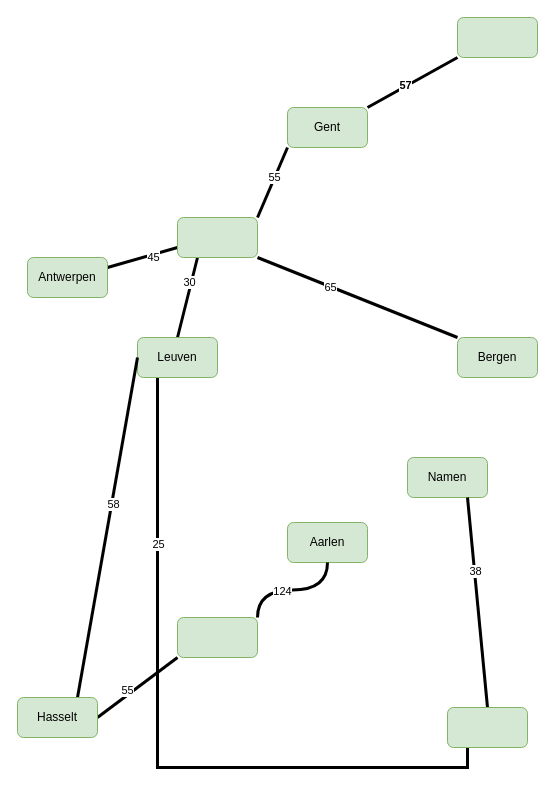
This 555x787 diagram has some shape labels left out. Here are the shapes that lost their labels. From the top down, the centre of each, then its label:
[497,37]: Brugge
[217,237]: Brussel
[217,637]: Luik
[487,727]: Waver
